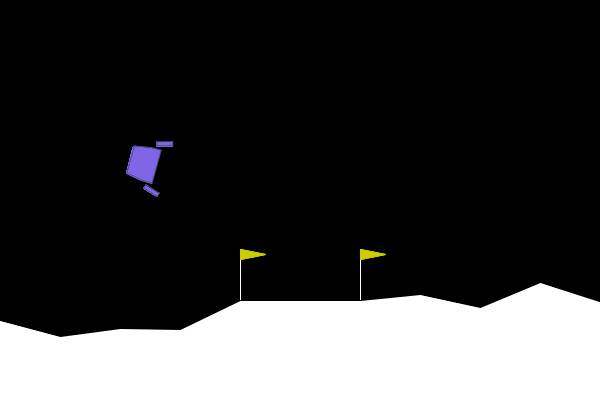lander: (120, 130, 175, 199)
